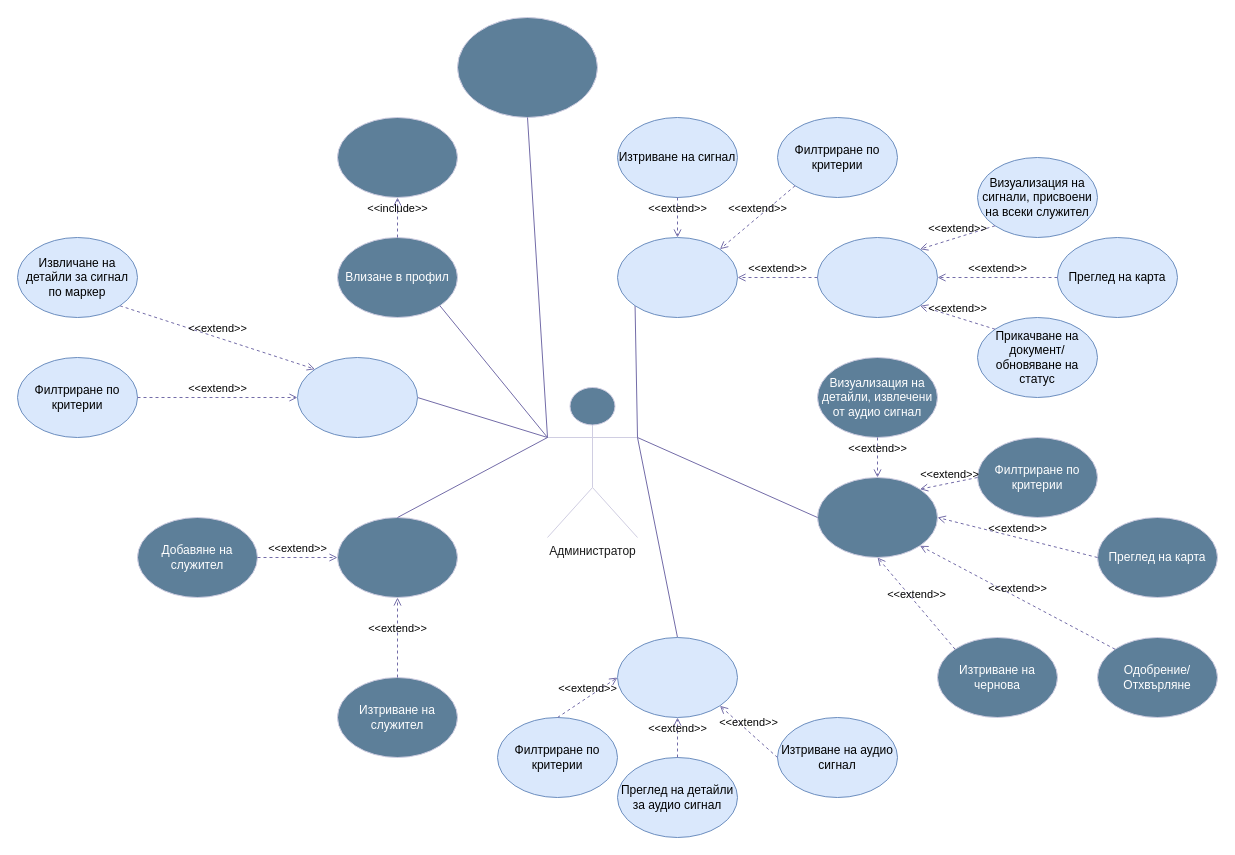
Some shapes in this 1235 by 855 pixel diagram are drawn without their labels. Each missing label, with the centre of its shape:
Вписване с име и парола: point 397,157
Добавяне на аудио за транскрипция и създаване на чернова: point 527,67
Преглед на детайли за сигнал: point 877,277
Преглед на сигнали по карта: point 357,397
Преглед на списък с аудио сигнали: point 677,677
Преглед на списък с чернови на сигнали: point 877,517
Преглед на списък със сигнали: point 677,277
Преглед на списък със служители: point 397,557
